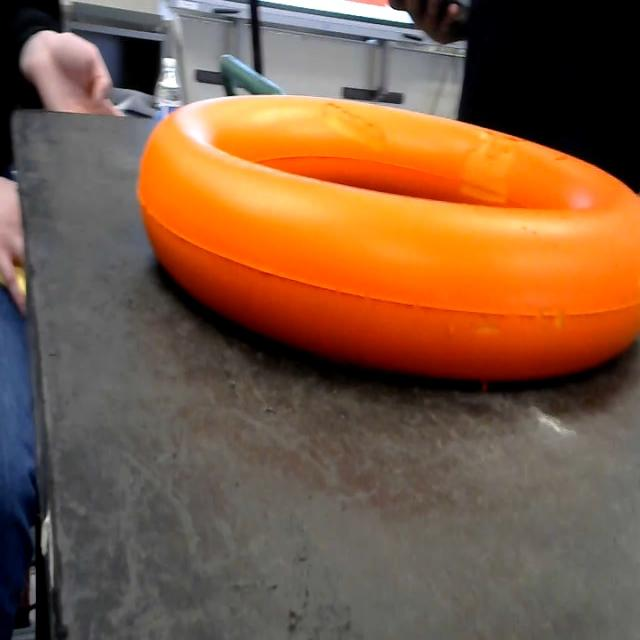note: (131, 71, 640, 389)
